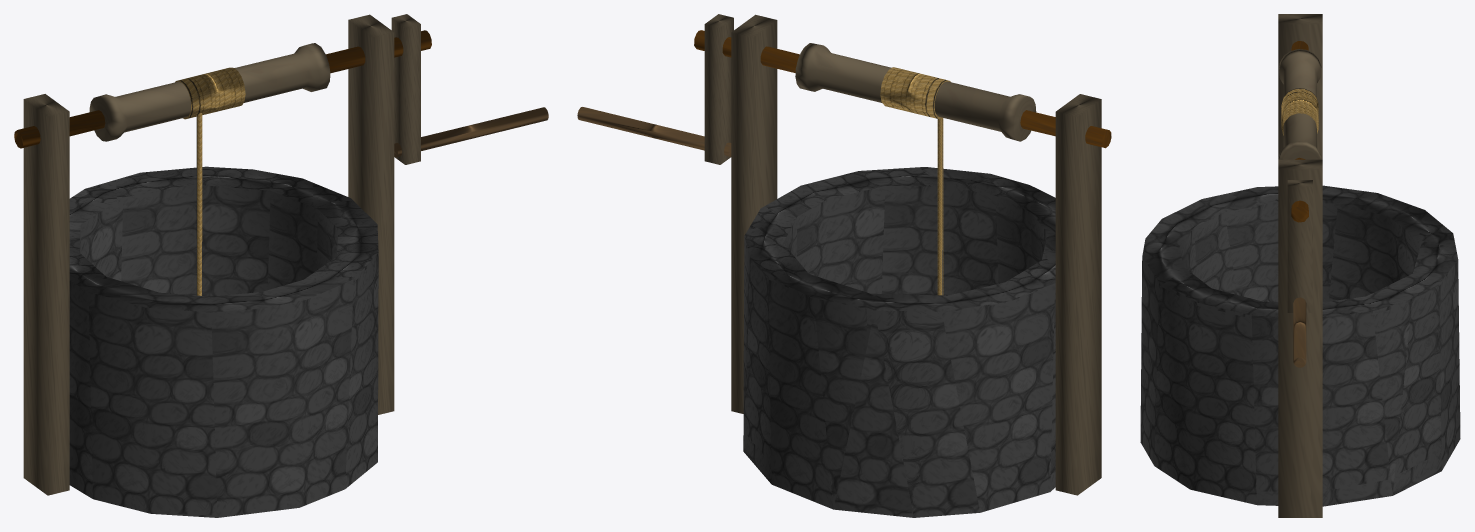
Rendered from Well.fbx.
3 views of the same model, side by side, from view 1: azimuth 30°, elevation 25°; view 2: azimuth 150°, elevation 25°; view 3: azimuth 270°, elevation 25° (orthographic). The views are drawn at different scales.
Visible parts, largest first — view 1: Well; view 2: Well; view 3: Well.
Part boxes in pixels (left/top/right/bottom): Well: left=14, top=14, right=548, bottom=517; Well: left=577, top=14, right=1111, bottom=517; Well: left=1140, top=14, right=1460, bottom=517.
Bounding box in the file's own units: 353 × 243 × 202.
Materials: 6 (6 with a texture image).
